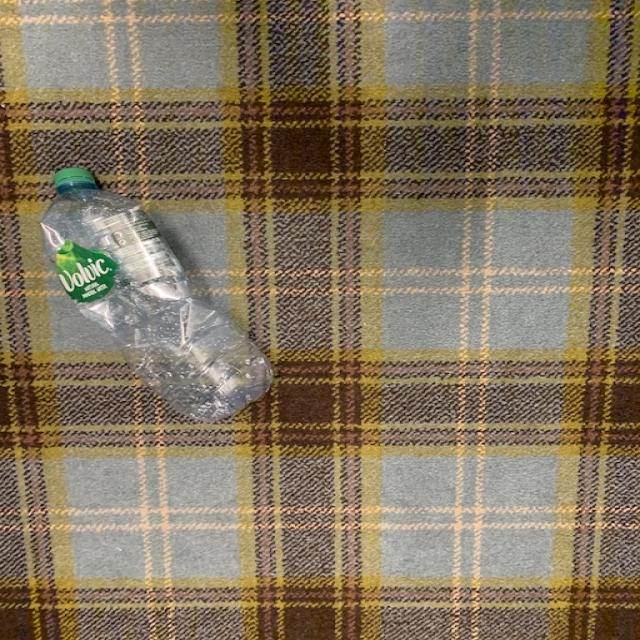Waste: (40, 170, 272, 422)
